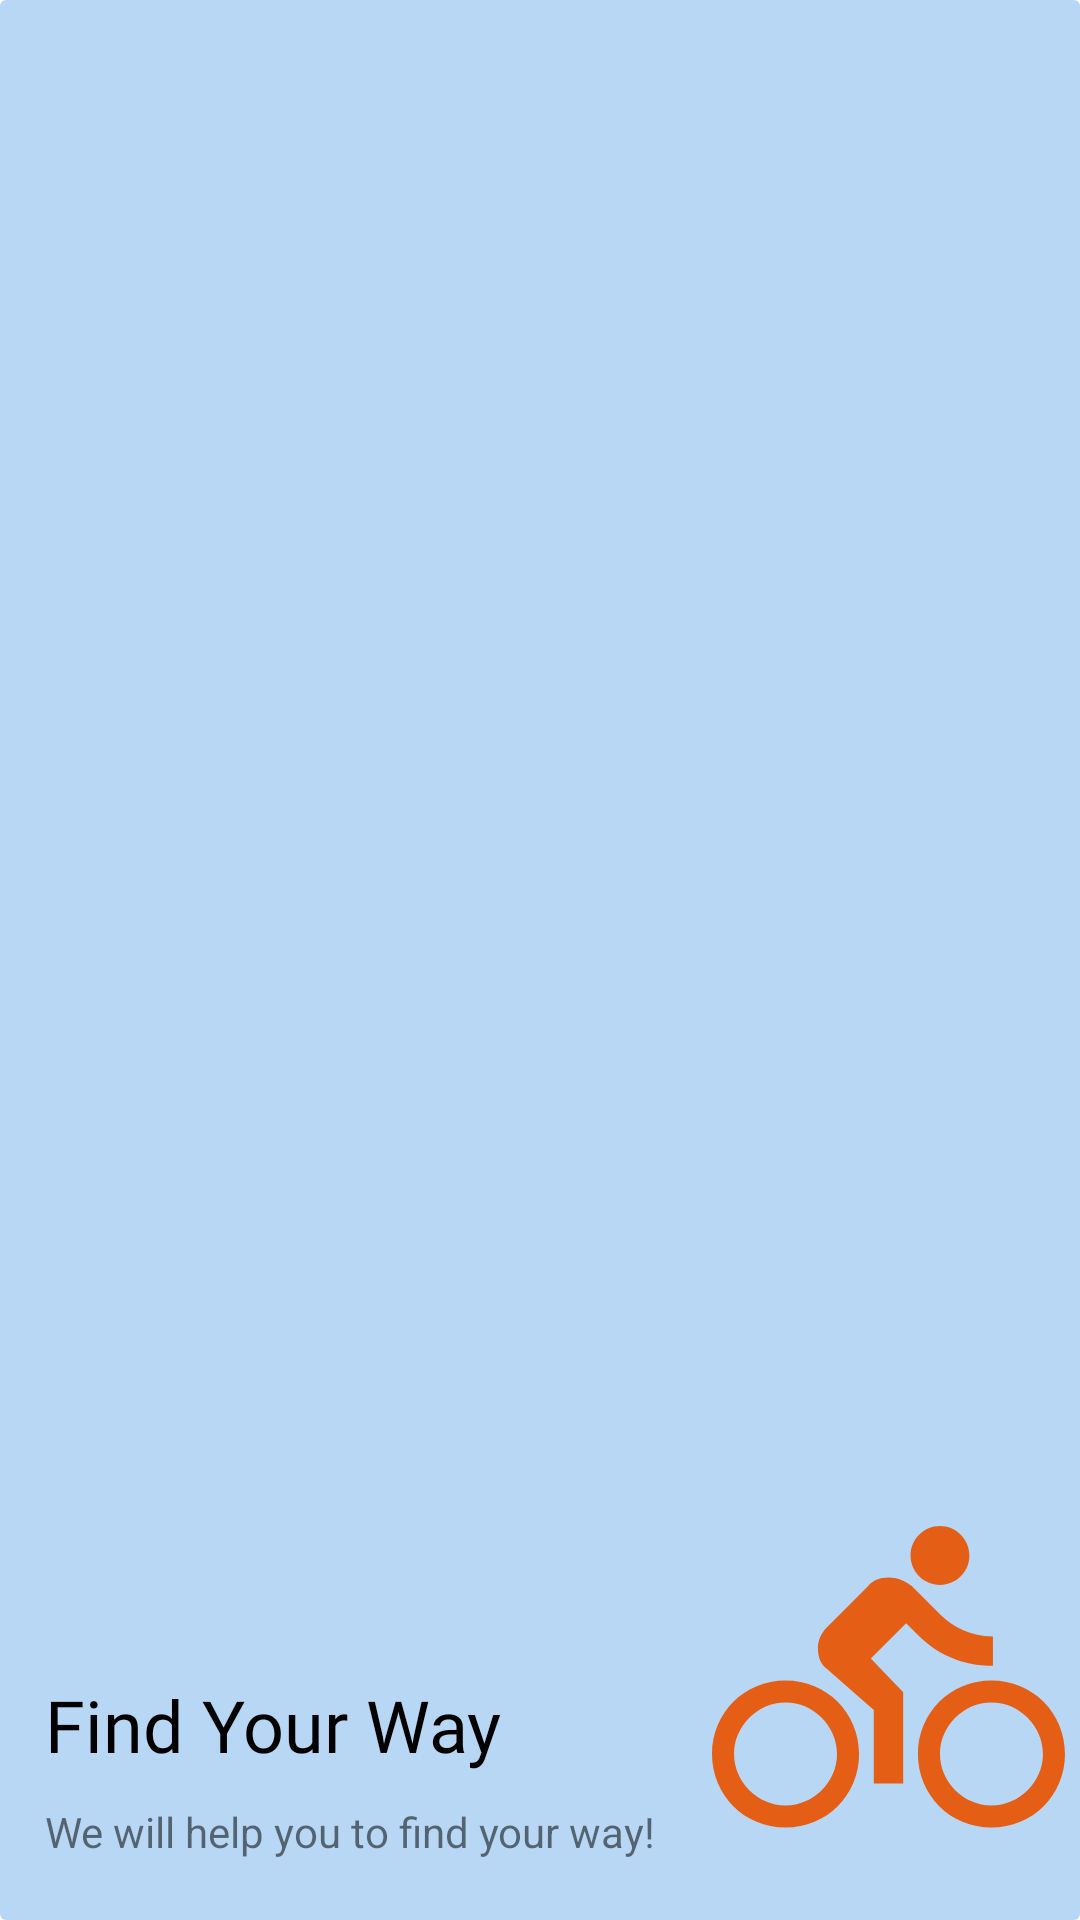

Where icons sit on this 1080 x 1920 app screen, as (x1, y1, x2, y2):
bicycle: (712, 1526, 1065, 1828)
